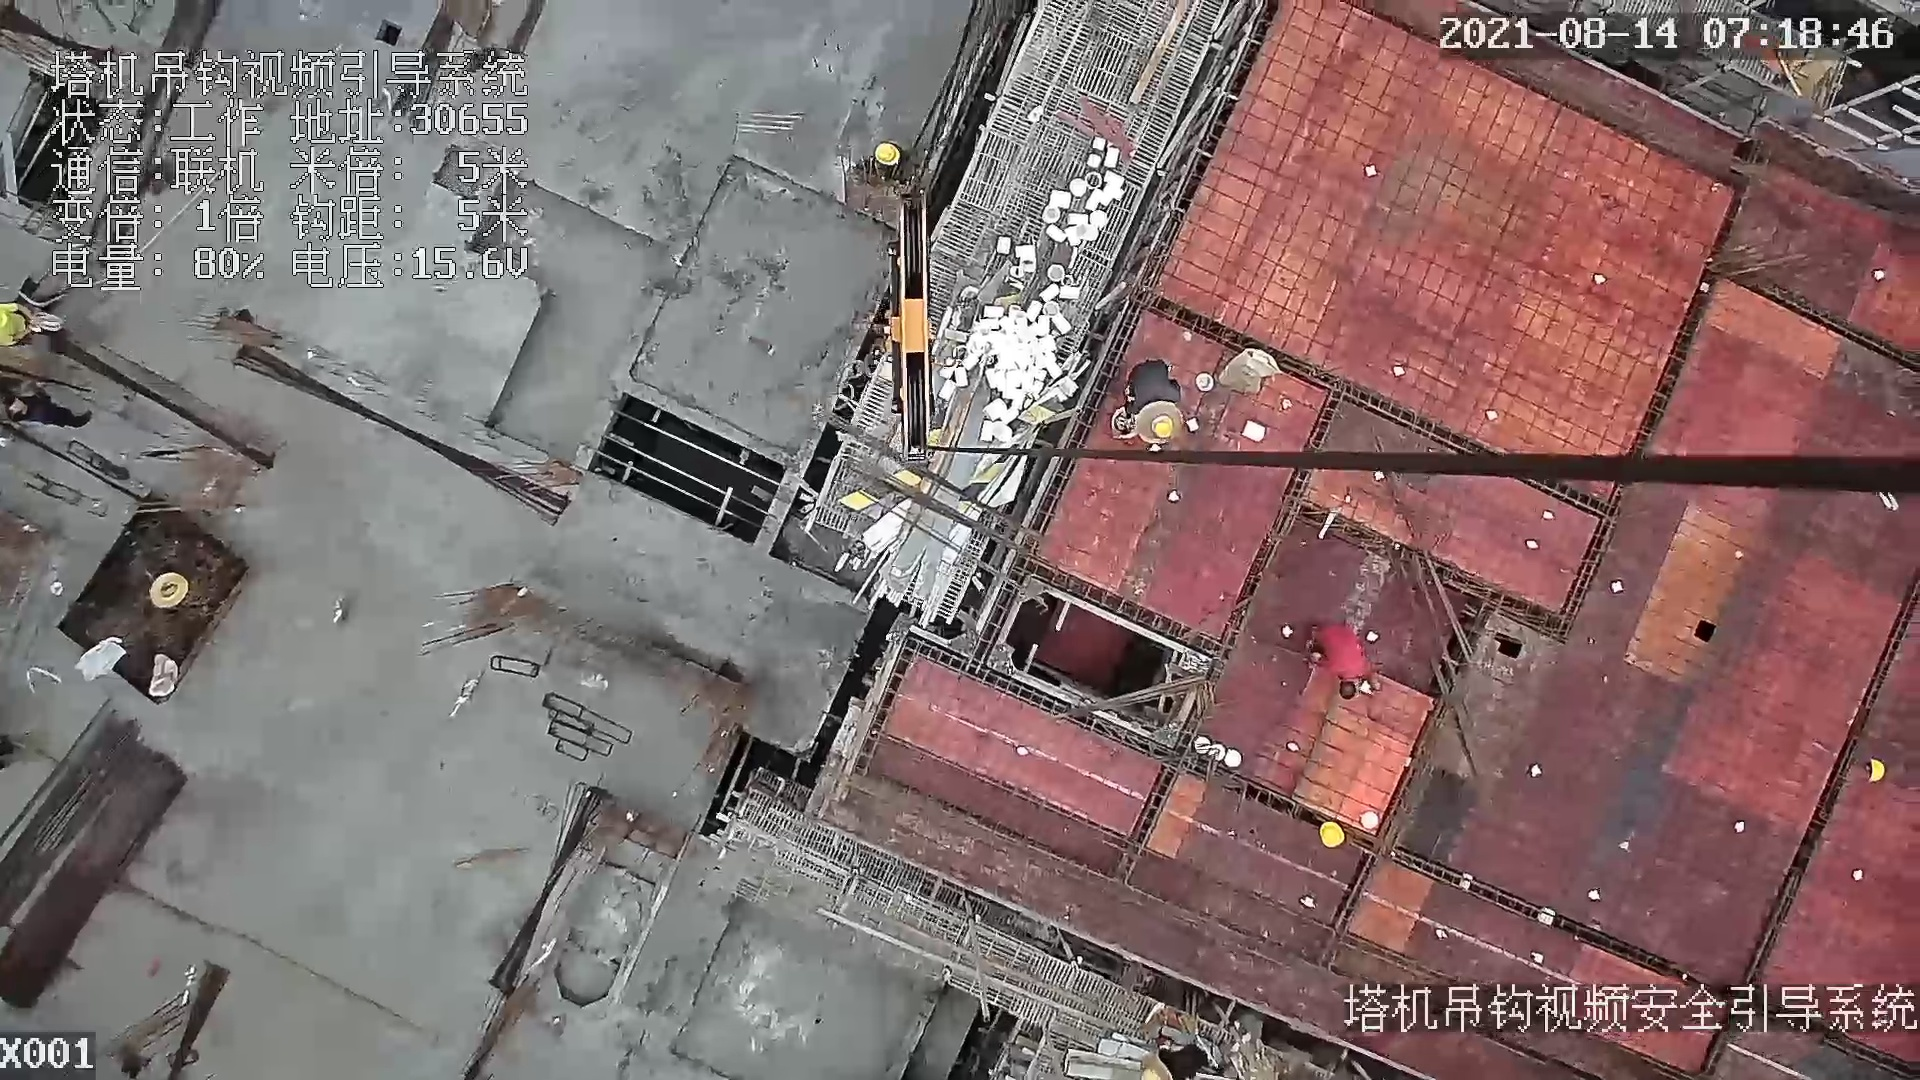helmet: (1314, 812, 1349, 849), (867, 139, 907, 167), (1141, 417, 1177, 441)
hook: (865, 192, 949, 471)
person: (1113, 355, 1186, 450), (1310, 613, 1383, 699), (874, 144, 920, 183)
